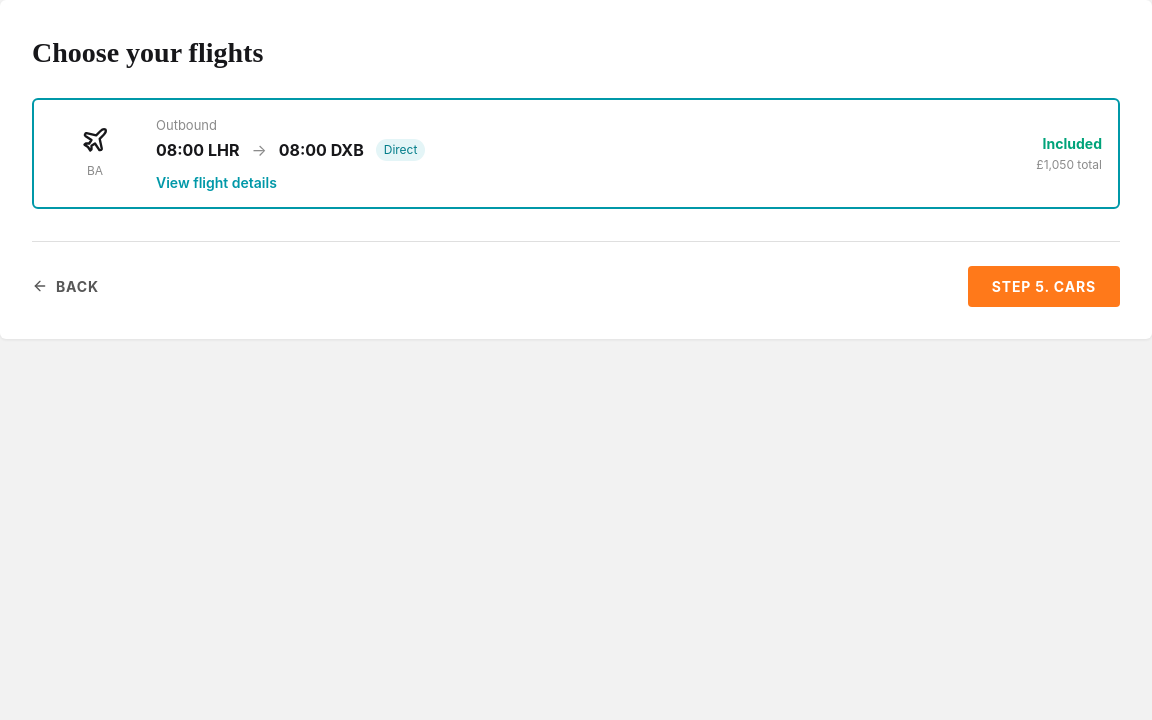
Test: FlightsStep details modal › renders a multi-day arrival badge and hand-luggage-only segments
The width and height of the screenshot is (1152, 720).
Click the button "View flight details" at (216, 182), box left=156, top=174, right=277, bottom=190
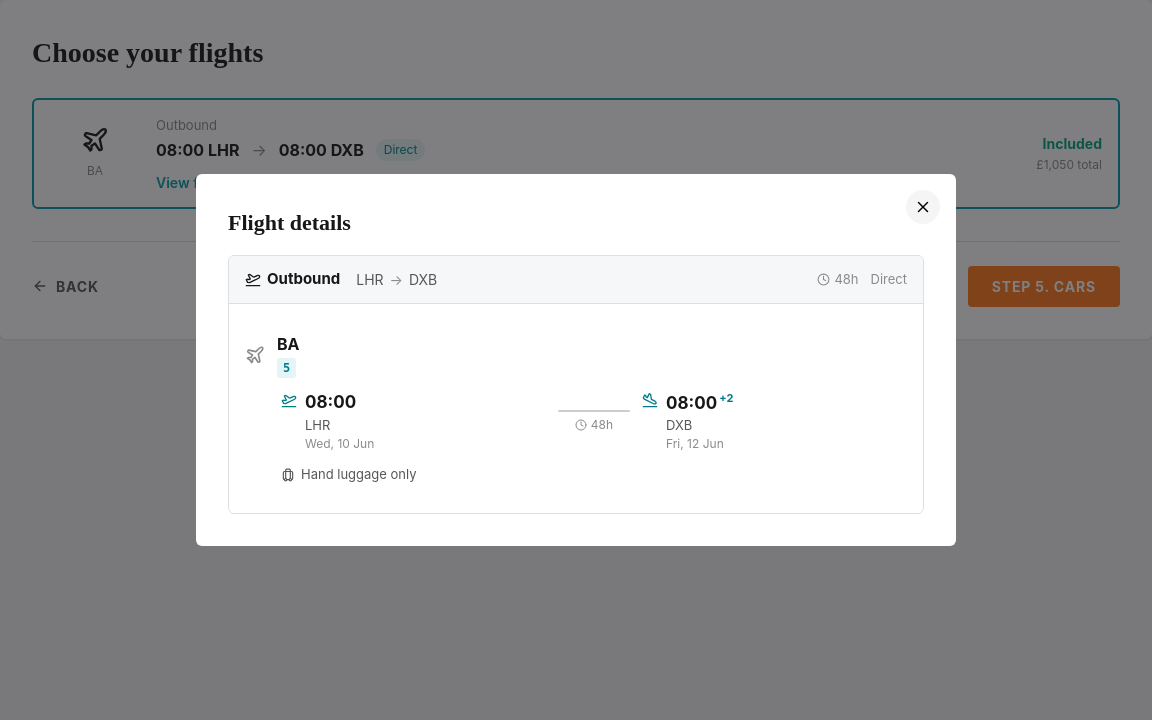
Result: the text "+2" is shown at left=719, top=391, right=733, bottom=405
Result: the text "Hand luggage only" is shown at left=281, top=465, right=416, bottom=485
